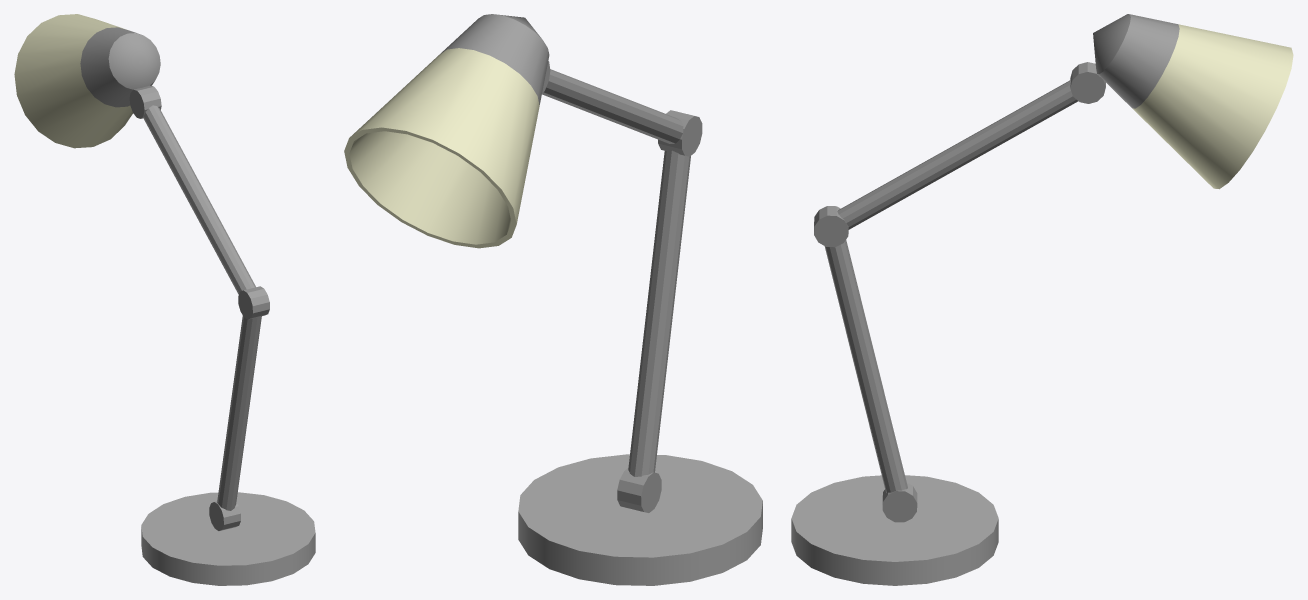
File: lamp_4.fbx
3 views of the same model, side by side, from view 1: azimuth 30°, elevation 25°; view 2: azimuth 150°, elevation 25°; view 3: azimuth 270°, elevation 25° (orthographic). The views are drawn at different scales.
Parts seen in each view (by area): view 1: polySurface291, polySurface293, pCylinder43, pCylinder42, polySurface294; view 2: polySurface293, polySurface291, pCylinder43, polySurface294, pCylinder42; view 3: polySurface291, polySurface293, pCylinder43, pCylinder42, polySurface294.
Boxes of the visible parts, <box> form: polySurface291: <box>141,492,315,585</box>; polySurface293: <box>14,14,132,148</box>; pCylinder43: <box>209,286,269,530</box>; pCylinder42: <box>129,85,255,294</box>; polySurface294: <box>80,27,160,107</box>; polySurface293: <box>344,48,539,248</box>; polySurface291: <box>518,454,762,585</box>; pCylinder43: <box>617,110,702,512</box>; polySurface294: <box>440,14,549,104</box>; pCylinder42: <box>542,61,683,143</box>; polySurface291: <box>791,475,998,585</box>; polySurface293: <box>1132,24,1293,189</box>; pCylinder43: <box>814,206,917,522</box>; pCylinder42: <box>837,62,1105,229</box>; polySurface294: <box>1093,14,1179,108</box>.
Bounding box in the file's own units: 2 × 5.58 × 4.85.
